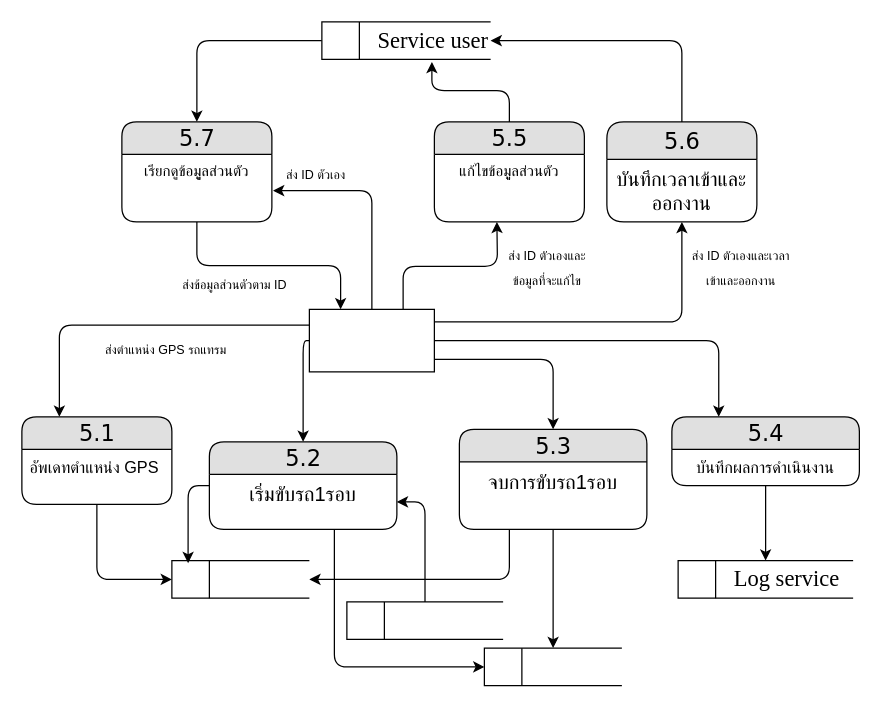
Some shapes in this 881 by 708 pixel diagram are drawn without their labels. The shapes that lost their labels are listed below. From the top down, each one's centre as x and y in pixels, then its label:
At point 371,340: "driver".
At point 240,578: "Tram".
At point 424,620: "Station".
At point 552,666: "One day".
